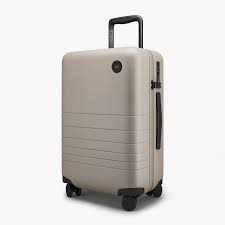suitcase: (58, 14, 166, 210)
